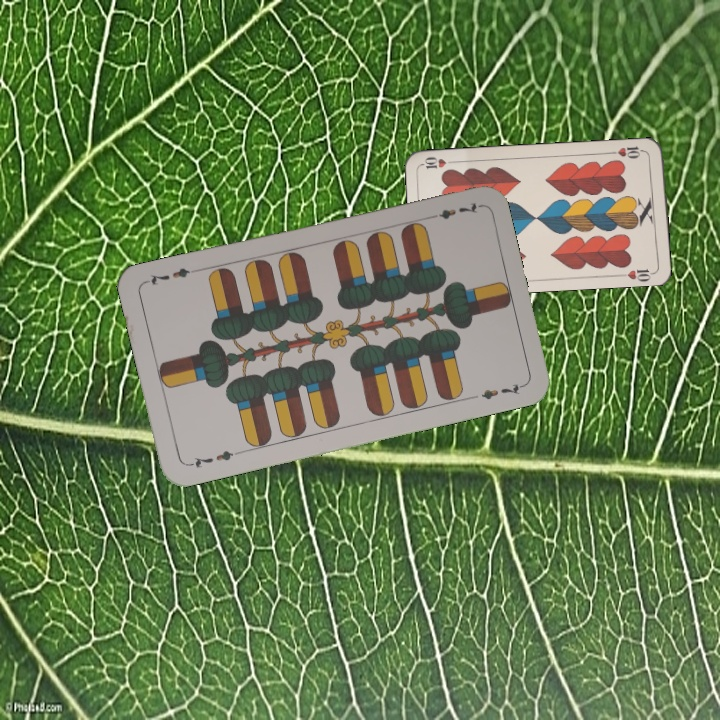E7: (184, 446, 242, 471), (424, 198, 482, 223)
H10: (608, 142, 648, 161)
